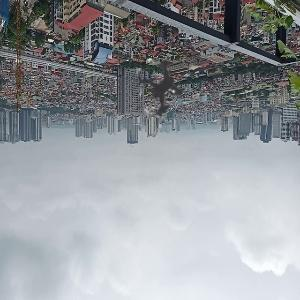drone: (79, 9, 239, 169)
